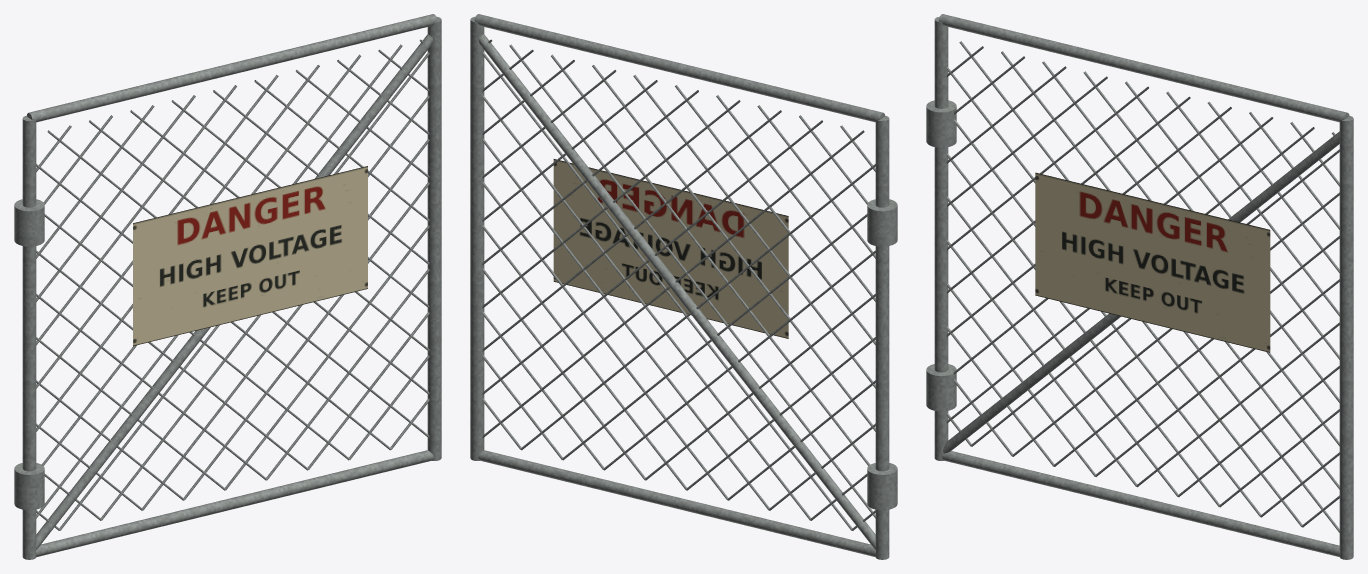
The model's file is SM_Substation_Gate_L.glb.
3 renders of one model, left to right at view 1: azimuth 30°, elevation 25°; view 2: azimuth 150°, elevation 25°; view 3: azimuth 330°, elevation 25°, orthographic.
Visible parts, largest first — view 1: SM_Substation_Gate_L; view 2: SM_Substation_Gate_L; view 3: SM_Substation_Gate_L.
Part boxes in pixels (x1,y1,x2,y2): SM_Substation_Gate_L: (14, 14, 441, 559); SM_Substation_Gate_L: (470, 14, 897, 559); SM_Substation_Gate_L: (926, 14, 1353, 559).
Size of the model in its own units: 2.26 by 2.26 by 0.14.
Materials: 2 (2 with a texture image).
